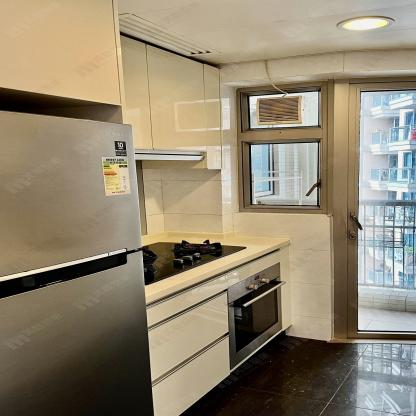Cupboard: (122, 37, 226, 169), (149, 275, 235, 414)
Exhaust Fan: (256, 96, 306, 125)
Fridge: (1, 109, 148, 414)
Oven: (231, 265, 284, 367)
Stove: (143, 238, 246, 285)
